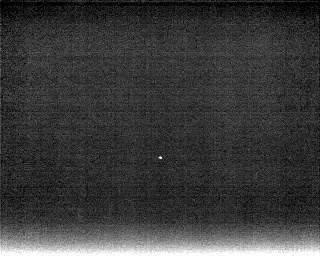BIRD: (156, 153, 164, 163)
